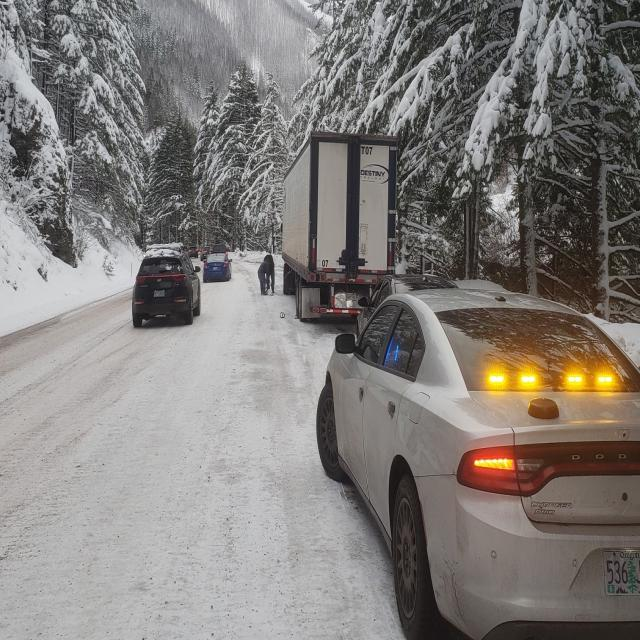cop: (312, 281, 640, 640)
